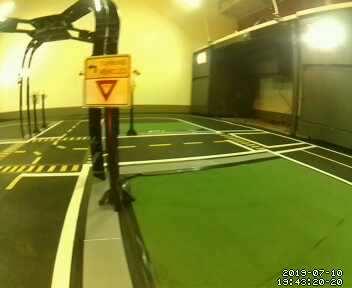Turn Yield: (83, 53, 130, 109)
